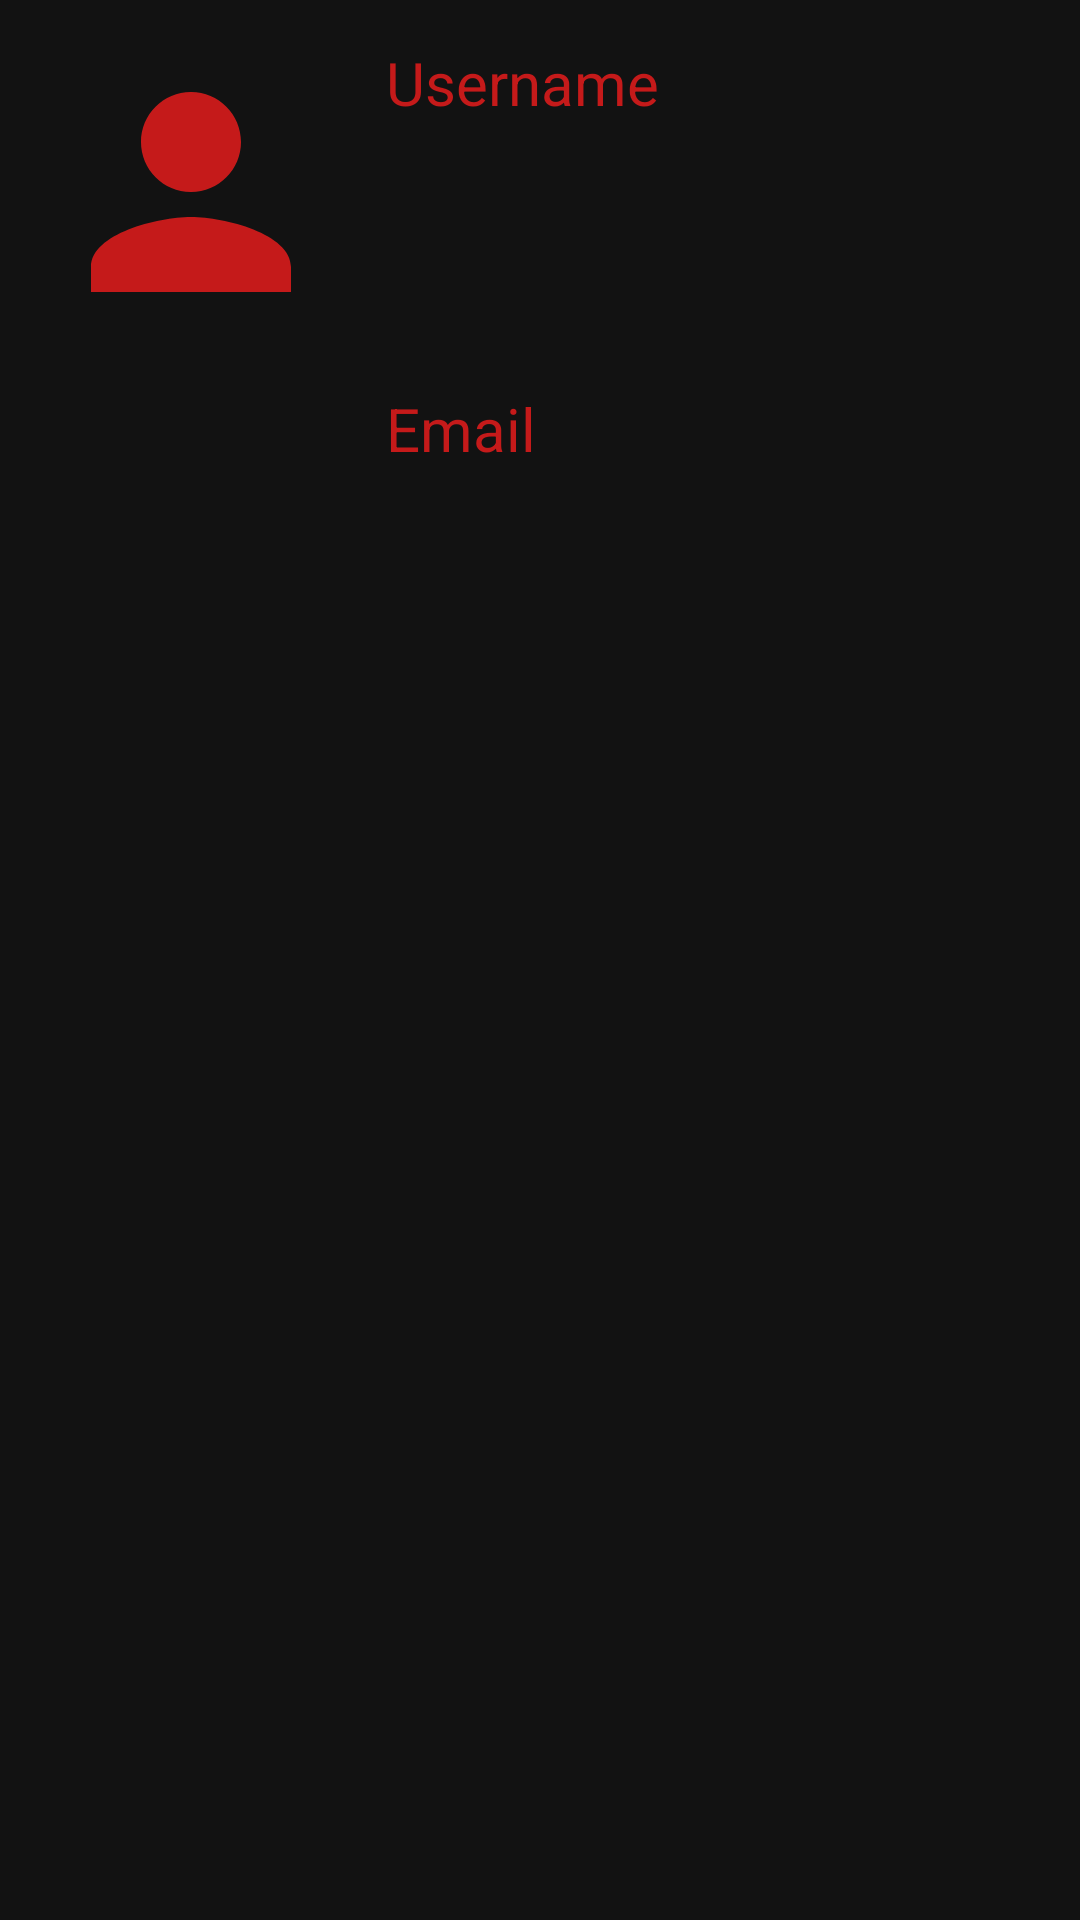

Named icons in this screenshot (1080px x 1920px) and their centers, (x,y):
person: (191,192)
